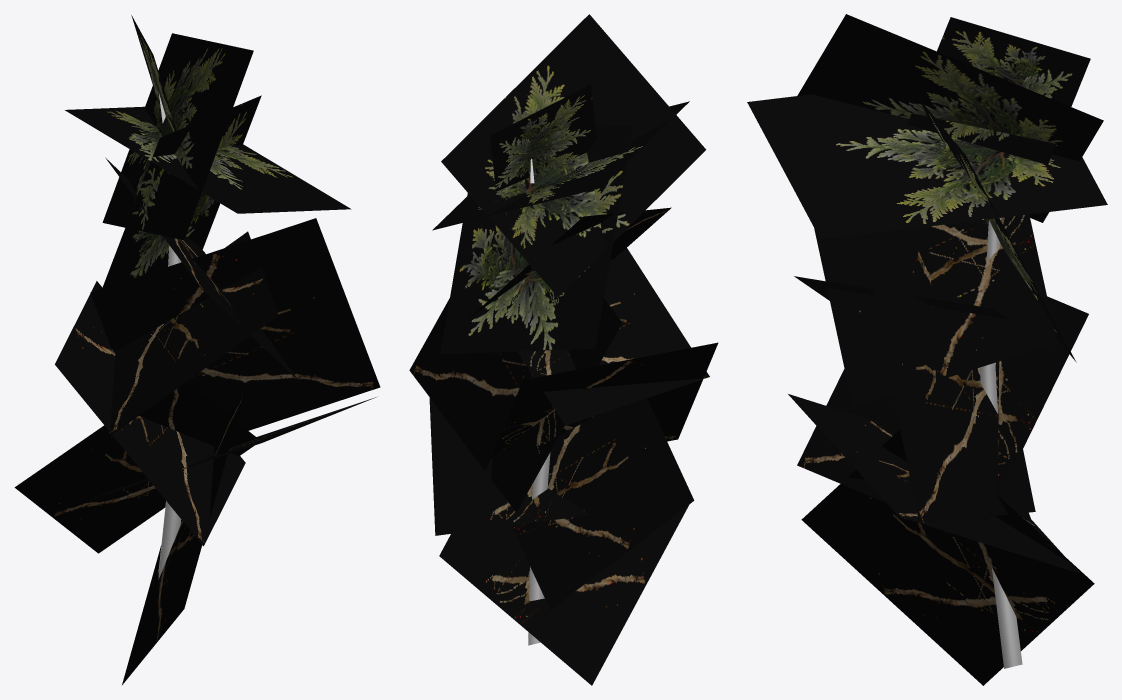
File: tannenzweig 4.fbx
3 views of the same model, side by side, from view 1: azimuth 30°, elevation 25°; view 2: azimuth 150°, elevation 25°; view 3: azimuth 270°, elevation 25° (orthographic). The views are drawn at different scales.
Parts seen in each view (by area): view 1: Circle_000; view 2: Circle_000; view 3: Circle_000.
Part boxes in pixels (x1=…): Circle_000: x1=14, y1=15, x2=380, y2=684; Circle_000: x1=409, y1=14, x2=718, y2=685; Circle_000: x1=747, y1=14, x2=1107, y2=685.
Size of the model in its own units: 3.87 by 7.29 by 3.37.
